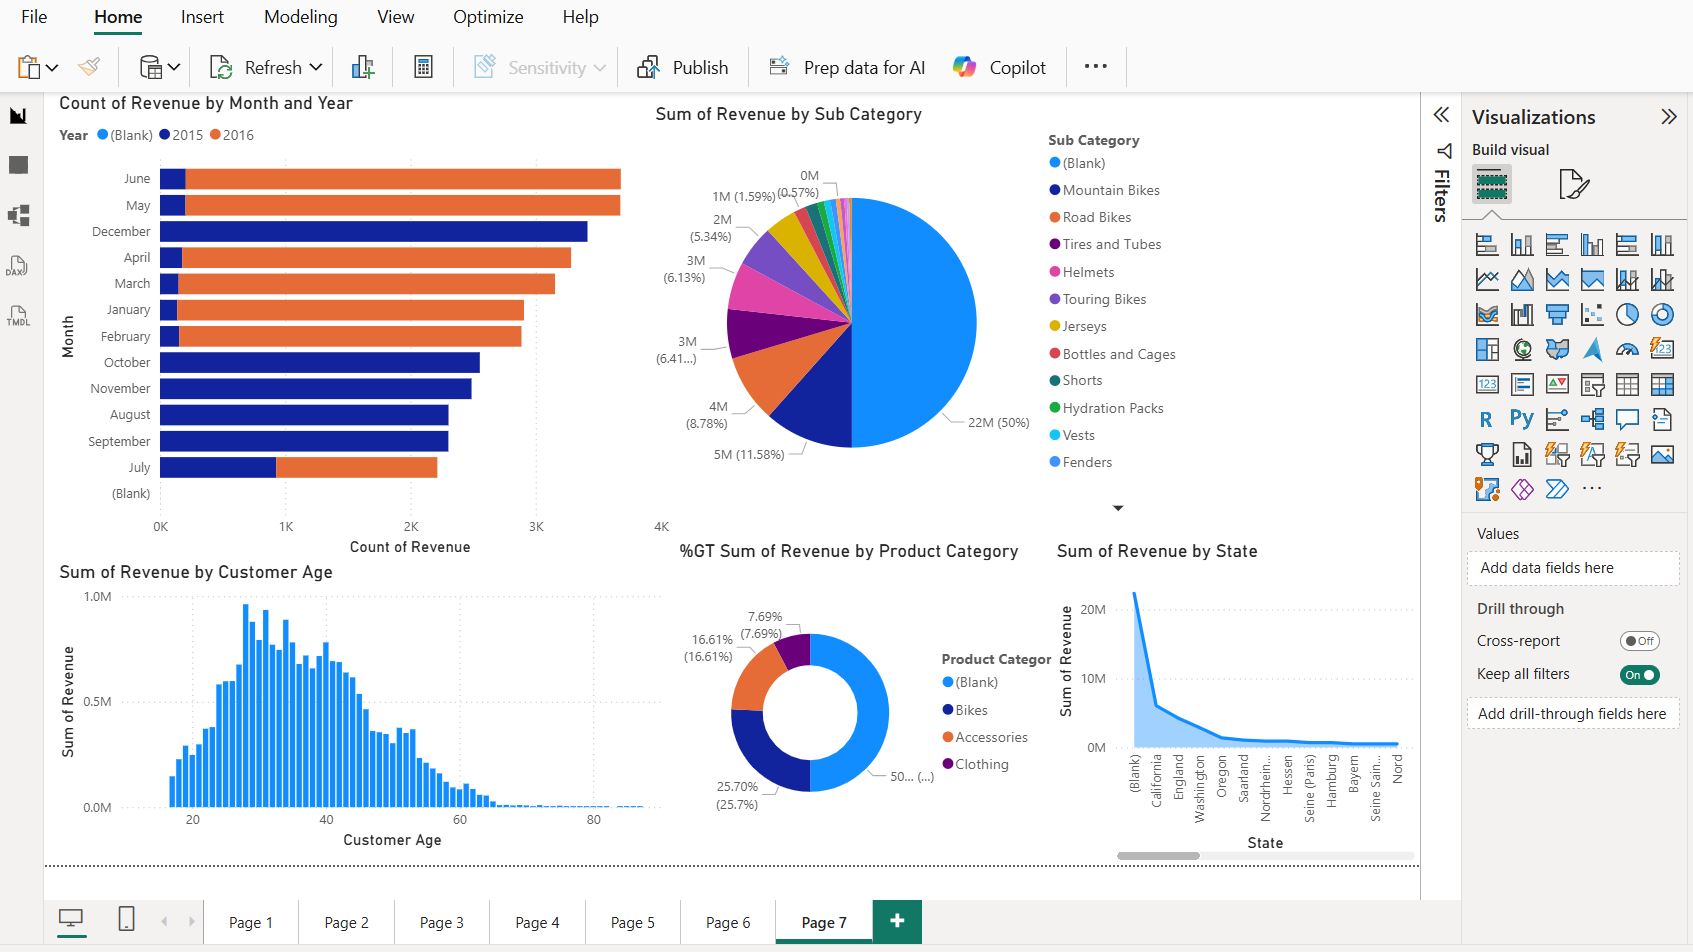

The page's visual inventory and layout, read from the dashboard file:
{"tool":"powerbi","page":{"name":"Page 7","canvas":[1280,720],"ordinal":6},"visuals":[{"type":"barChart","fields":{"Category":["Salestable.Month"],"Y":["CountNonNull(Salestable.Revenue)"],"Series":["Salestable.Year"]},"box":[9.3,0,576.7,436],"z":0},{"type":"pieChart","fields":{"Y":["Sum(Salestable.Revenue)"],"Category":["Salestable.Sub Category"]},"box":[564,10.5,503.5,389.5],"z":1},{"type":"columnChart","fields":{"Category":["Salestable.Customer Age"],"Y":["Sum(Salestable.Revenue)"]},"box":[9.3,436,576.7,273.3],"z":2},{"type":"donutChart","fields":{"Category":["Salestable.Product Category"],"Y":["Sum(Salestable.Revenue)"]},"box":[586,416.3,369.8,303.5],"z":3},{"type":"stackedAreaChart","fields":{"Category":["Salestable.State"],"Y":["Sum(Salestable.Revenue)"]},"box":[937.2,416.3,343,303.5],"z":4}]}

Visuals, with their boxes on the page's 1280x720 design canvas (x1, y1, x2, y2). These are canvas units, not pixel positions in the 1693x952 screenshot, which may show the page scaled, cropped or inside an application window:
barChart - Salestable.Month x CountNonNull(Salestable.Revenue): 9,0,586,436
pieChart - Sum(Salestable.Revenue) x Salestable.Sub Category: 564,10,1068,400
columnChart - Salestable.Customer Age x Sum(Salestable.Revenue): 9,436,586,709
donutChart - Salestable.Product Category x Sum(Salestable.Revenue): 586,416,956,720
stackedAreaChart - Salestable.State x Sum(Salestable.Revenue): 937,416,1280,720
